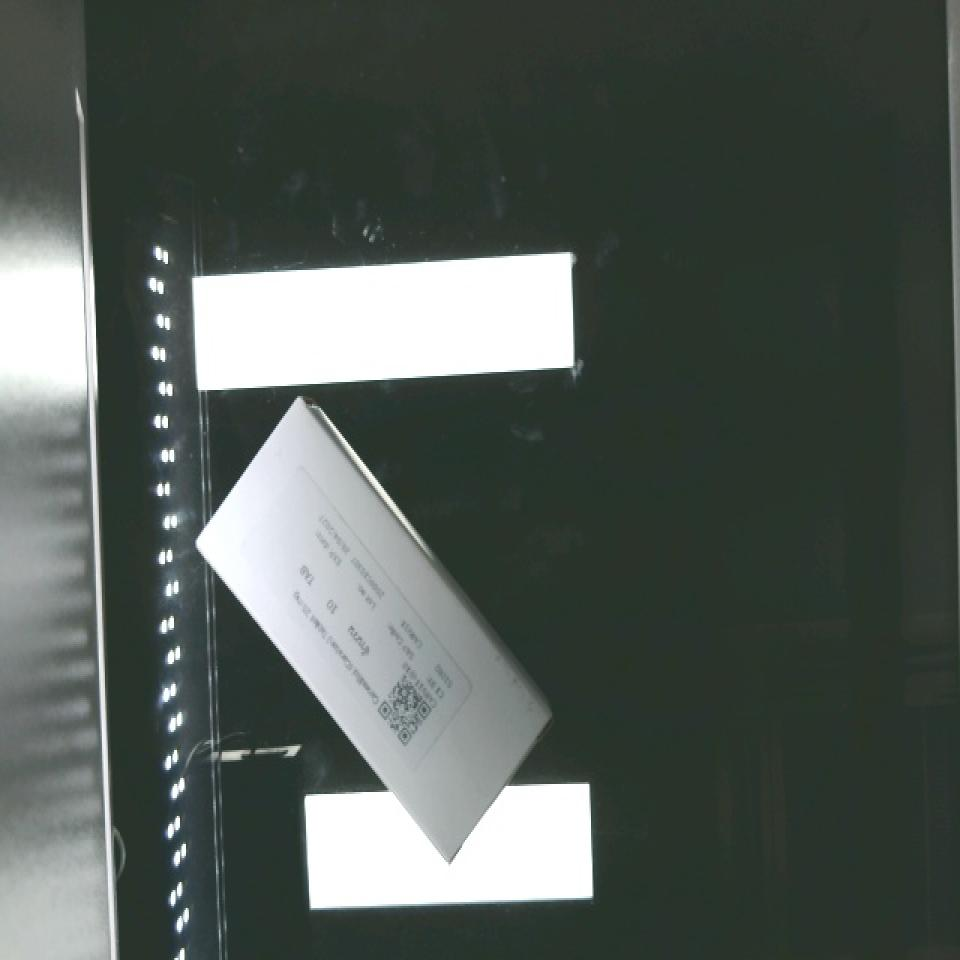medicine_box: (165, 397, 586, 861)
qr_code: (361, 664, 449, 753)
